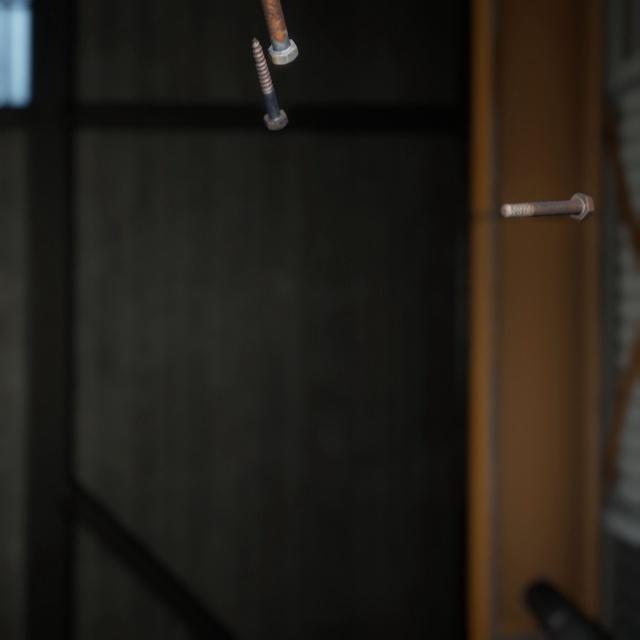bolt: (247, 21, 292, 123), (495, 173, 598, 210), (257, 0, 302, 61)
